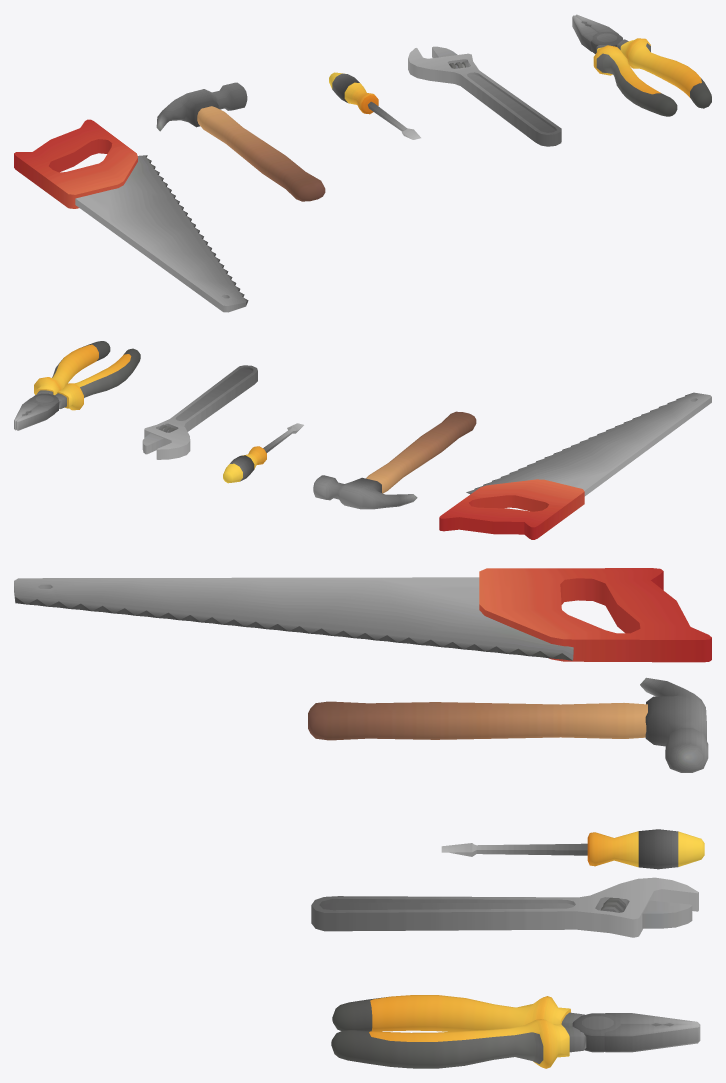
Rendered from tools-transformed.glb.
3 renders of one model, top to bottom at view 1: azimuth 30°, elevation 25°; view 2: azimuth 150°, elevation 25°; view 3: azimuth 270°, elevation 25°, orthographic. The views are drawn at different scales.
Visible parts, largest first — view 1: Plane.002_Material_0; view 2: Plane.002_Material_0; view 3: Plane.002_Material_0.
Boxes of the visible parts, x1,y1,x2,y2 form: Plane.002_Material_0: [14, 14, 711, 312]; Plane.002_Material_0: [14, 341, 711, 539]; Plane.002_Material_0: [14, 568, 711, 1068].
Bounding box in the file's own units: 2.9 × 0.1688 × 1.84.
1 material, 1 textured.
